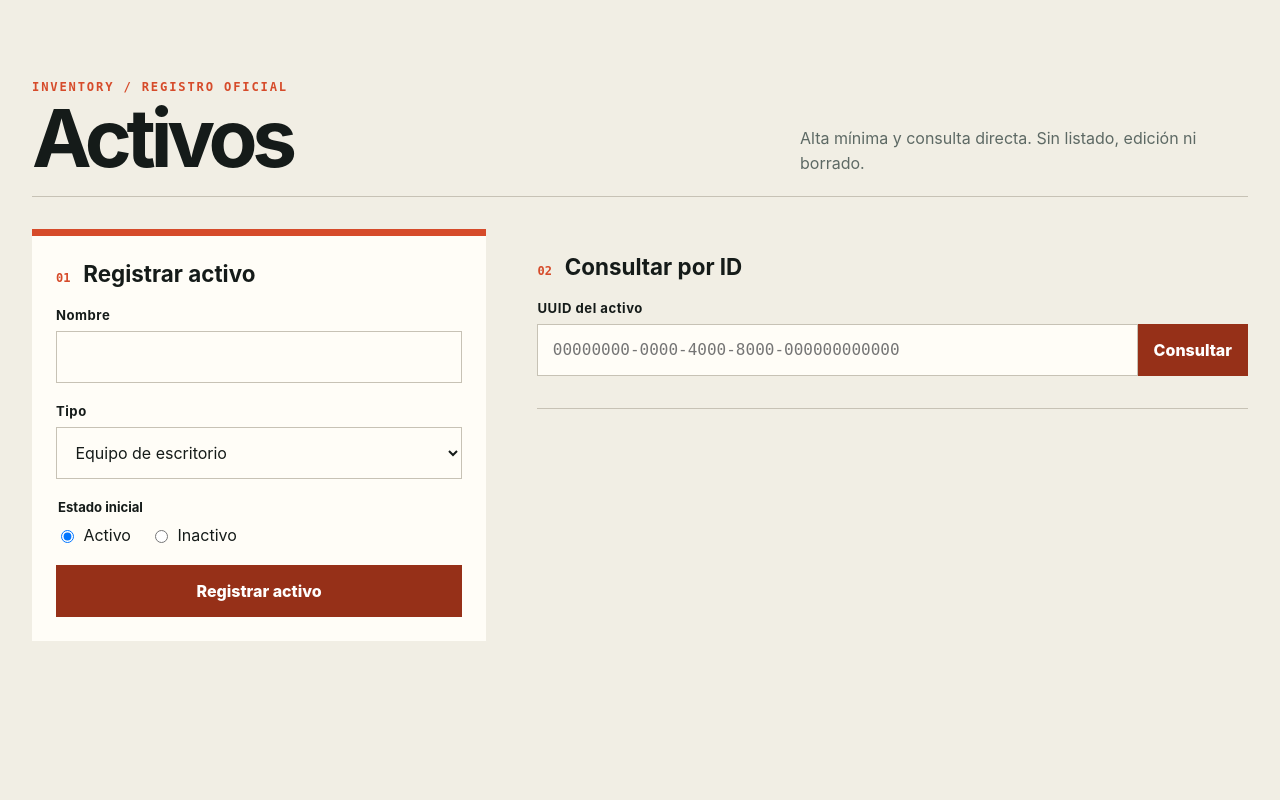
it: AssetWorkspace › validates lookup identifiers before making a request
In the field labelled "UUID del activo": (838, 350) [538,324,1138,376], type "not-a-uuid"
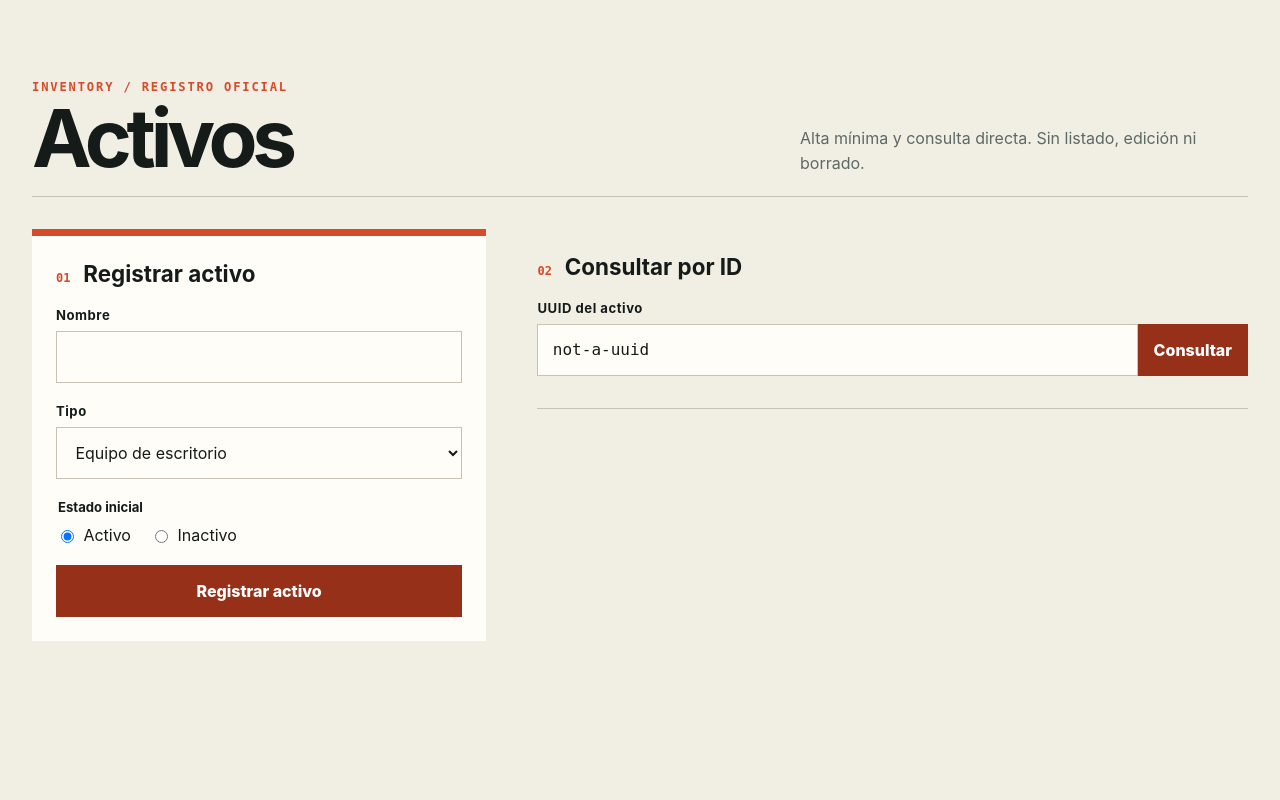
Click the button "Consultar": (1193, 350) [1138,324,1248,376]
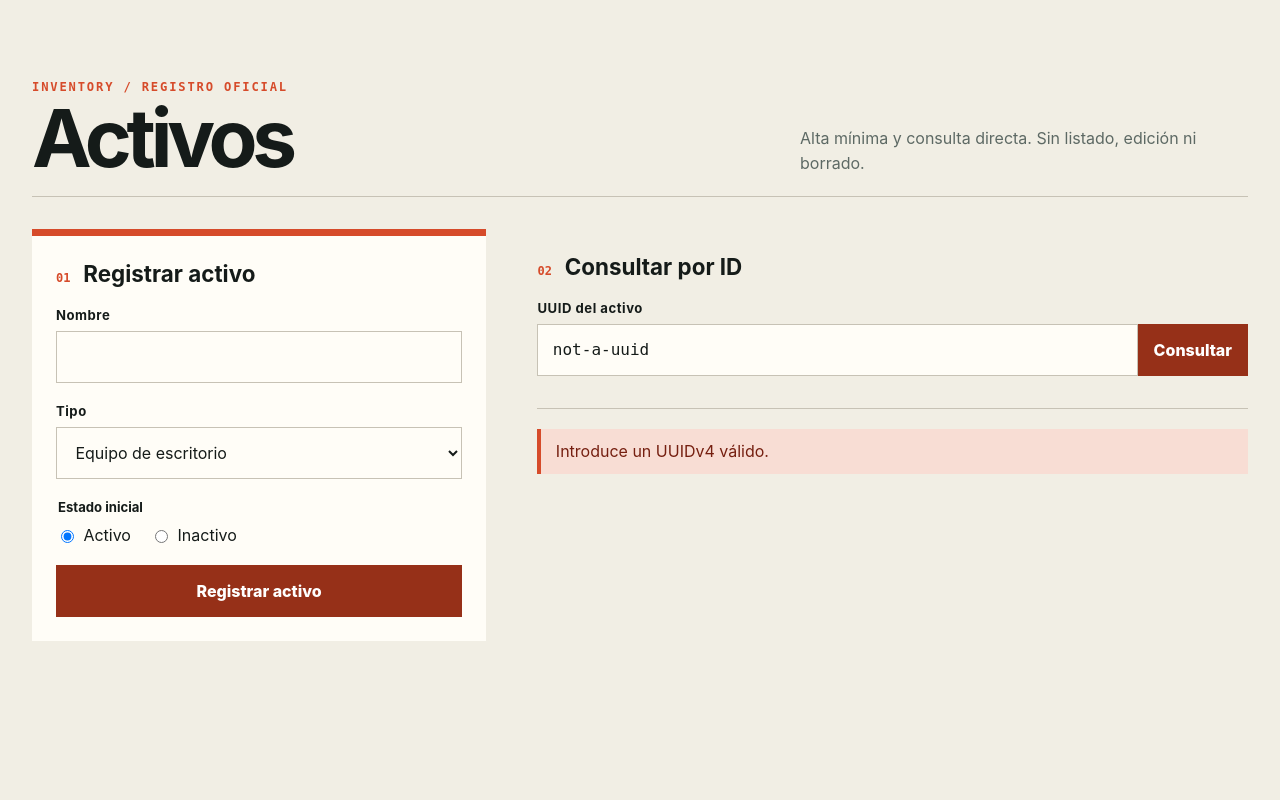
expect the message shows "UUIDv4 válido": met, box [556,441,769,461]
